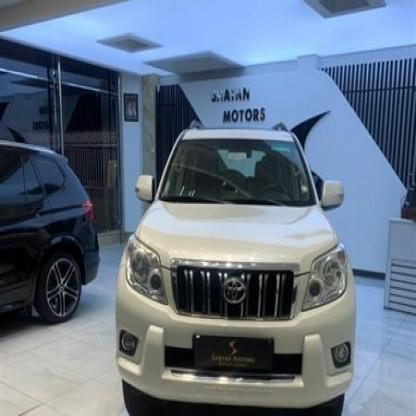Car: (121, 122, 350, 415), (0, 141, 105, 316)
